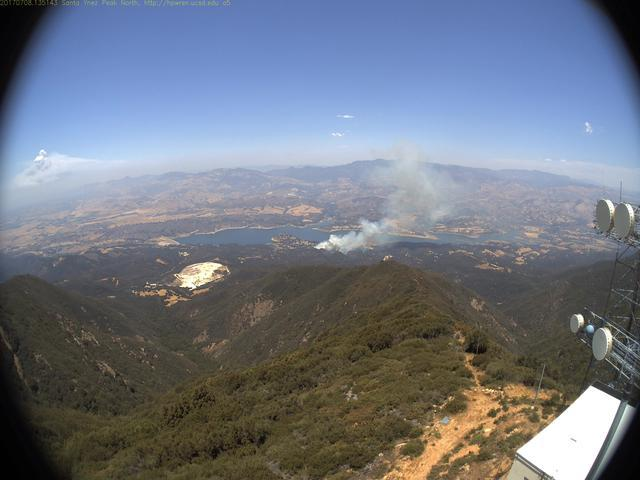smoke: (310, 144, 478, 256)
